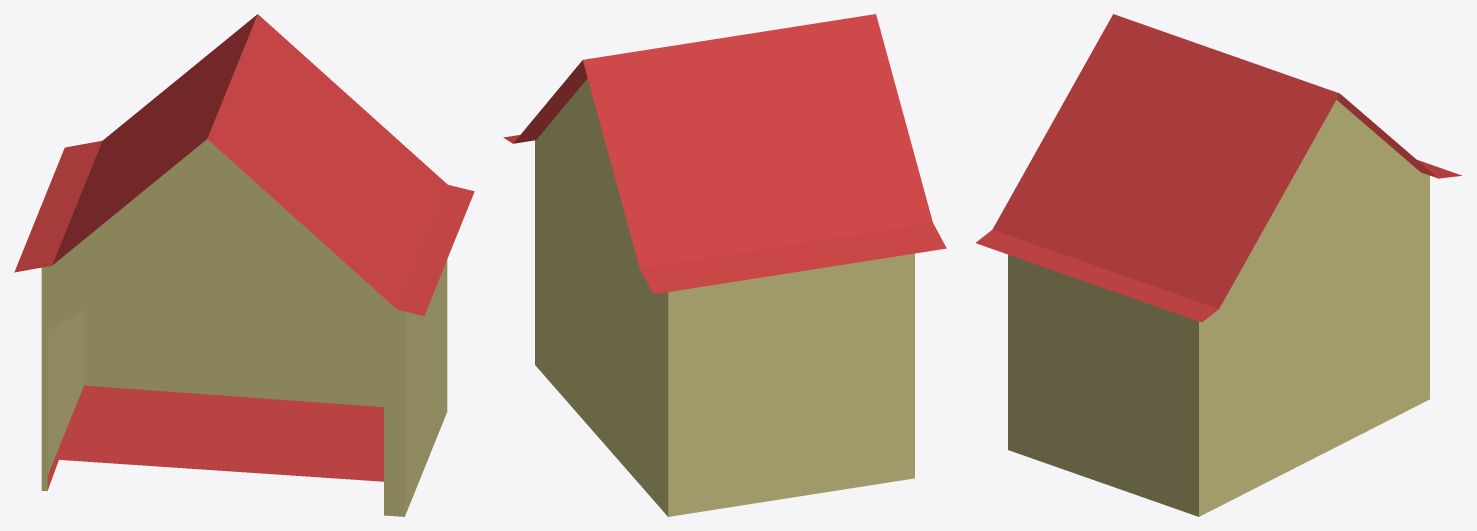
The picture shows the model from 3 angles, left to right: view 1: azimuth 30°, elevation 25°; view 2: azimuth 150°, elevation 25°; view 3: azimuth 270°, elevation 25°; orthographic projection. The views are drawn at different scales.
Size of the model in its own units: 21.57 by 20.93 by 17.39.
